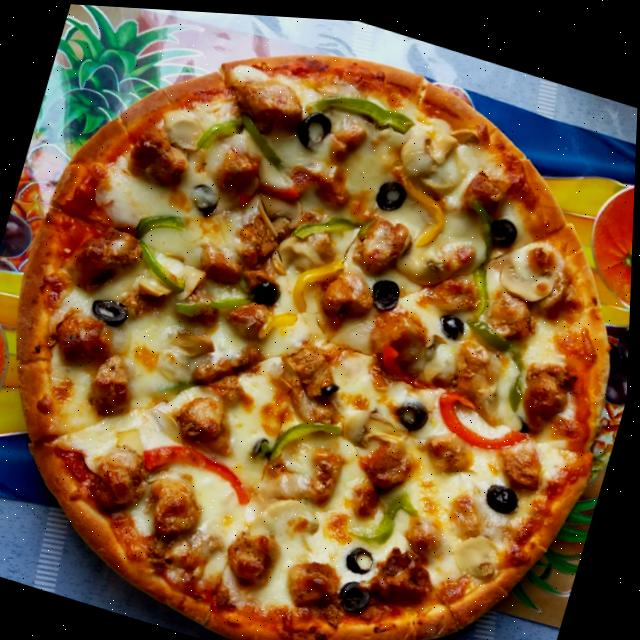black_olives: (360, 265, 409, 317), (390, 383, 437, 434), (291, 99, 336, 152), (482, 468, 529, 516), (86, 288, 138, 330), (181, 173, 228, 219), (336, 568, 379, 615), (246, 266, 289, 308), (369, 170, 412, 211), (484, 205, 523, 247), (344, 535, 384, 575), (433, 300, 472, 338), (315, 368, 347, 400), (249, 427, 276, 460)
mushrooms: (387, 100, 485, 200), (130, 241, 211, 314), (251, 484, 331, 557), (334, 396, 416, 455), (269, 221, 338, 287), (491, 246, 563, 304), (449, 521, 510, 581), (390, 237, 457, 291), (151, 99, 214, 155), (245, 185, 310, 238), (138, 397, 200, 447), (168, 320, 222, 361), (109, 417, 157, 460)
pizza: (0, 0, 640, 640)
